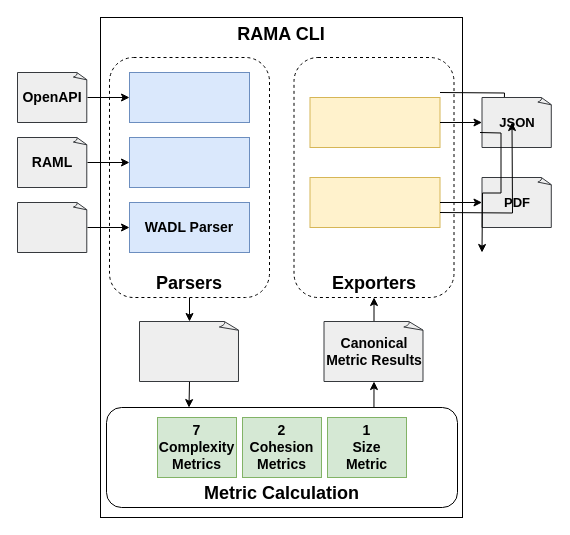
Some shapes in this 570 by 535 pixel diagram are drawn without their labels. The shapes that lost their labels are listed below. From the top down, each one's centre as x and y in pixels, then its label:
At [189,97]: "OpenAPI Parser".
At [374,122]: "JSON Exporter".
At [189,162]: "RAML Parser".
At [374,202]: "PDF Exporter".
At [52,227]: "WADL".
At [189,351]: "Canonical REST API Model".
